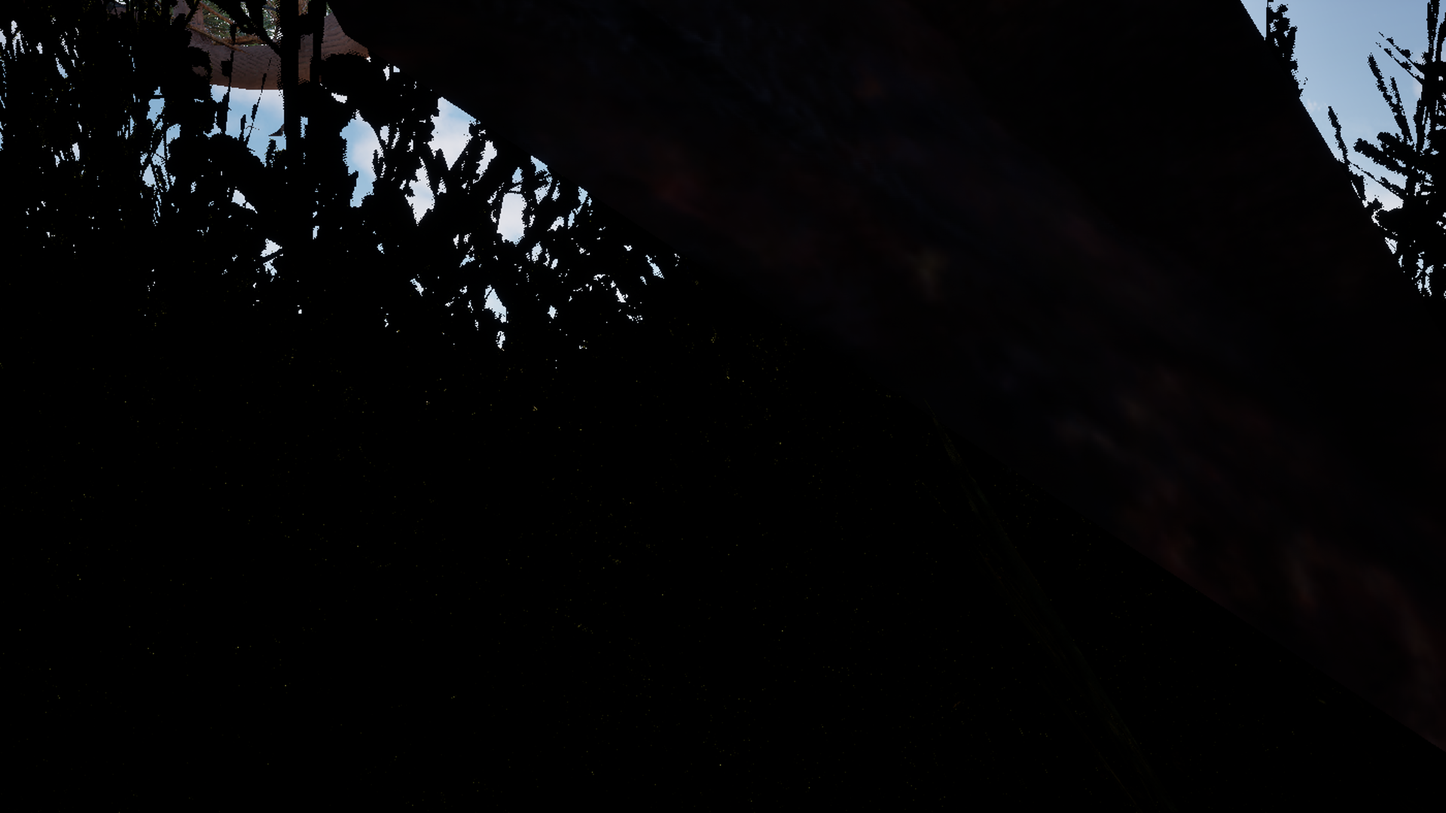Piplup: (343, 0, 1188, 813)
